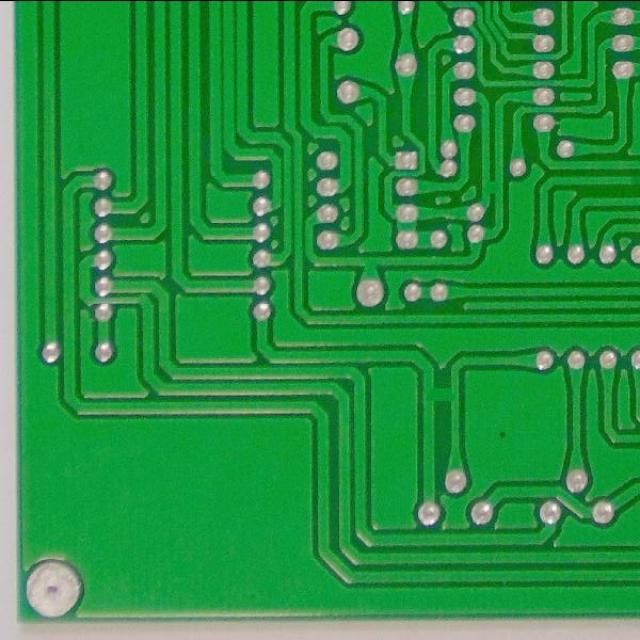short: (423, 377, 461, 416), (480, 174, 505, 200)
